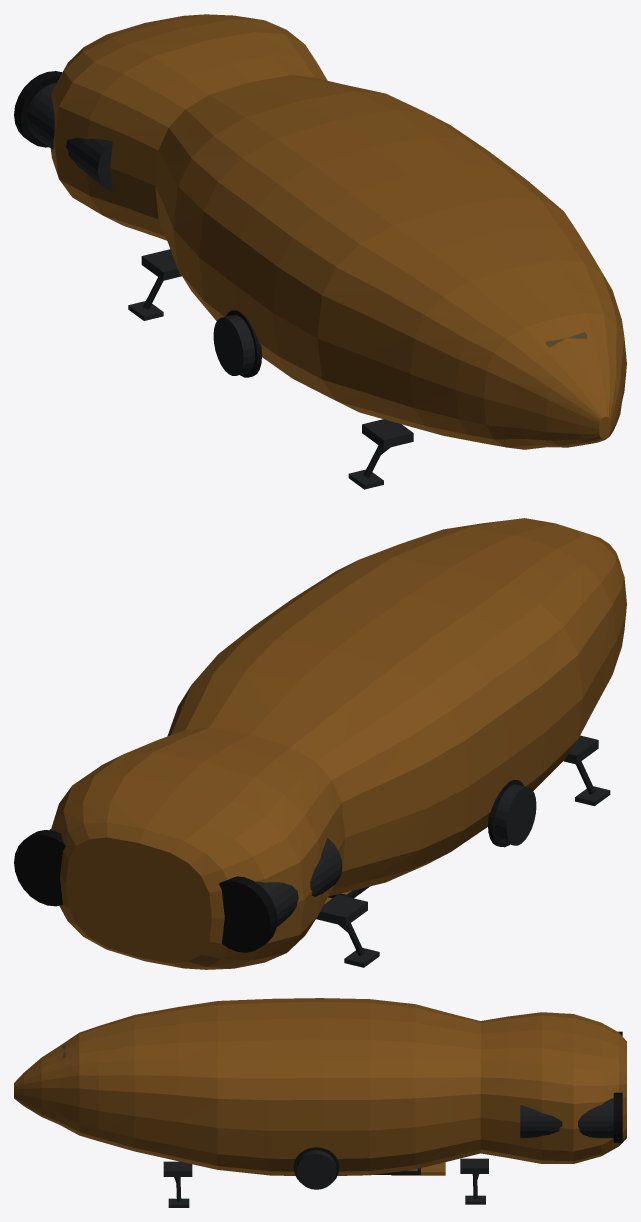
The model's file is STW-T01_StingWasp.obj.
3 views of the same model, one above another, from view 1: azimuth 30°, elevation 25°; view 2: azimuth 150°, elevation 25°; view 3: azimuth 270°, elevation 25° (orthographic). The views are drawn at different scales.
Visible parts, largest first — view 1: STW_T01_Hull, STW_T01_DrivePod_Port, STW_T01_Dock_Port, STW_T01_EngineBell_Port, STW_T01_Gear_FL_Bay, STW_T01_Gear_RL_Bay; view 2: STW_T01_Hull, STW_T01_EngineBell_Port, STW_T01_EngineBell_Starboard, STW_T01_DrivePod_Port, STW_T01_Dock_Port, STW_T01_Gear_RL_Bay; view 3: STW_T01_Hull, STW_T01_DrivePod_Starboard, STW_T01_Dock_Starboard, STW_T01_EngineBell_Starboard, STW_T01_Gear_RR_Bay, STW_T01_Gear_FR_Bay, STW_T01_Dock_Starboard_Interface, STW_T01_CargoRamp.
Boxes of the visible parts, bbox=[...] form: STW_T01_Hull: bbox=[50, 14, 626, 449]; STW_T01_DrivePod_Port: bbox=[26, 83, 112, 191]; STW_T01_Dock_Port: bbox=[213, 315, 254, 375]; STW_T01_EngineBell_Port: bbox=[14, 71, 62, 147]; STW_T01_Gear_FL_Bay: bbox=[362, 419, 413, 448]; STW_T01_Gear_RL_Bay: bbox=[141, 249, 181, 280]; STW_T01_Hull: bbox=[51, 518, 626, 969]; STW_T01_EngineBell_Port: bbox=[219, 876, 277, 952]; STW_T01_EngineBell_Starboard: bbox=[14, 830, 65, 906]; STW_T01_DrivePod_Port: bbox=[255, 838, 342, 926]; STW_T01_Dock_Port: bbox=[495, 784, 536, 845]; STW_T01_Gear_RL_Bay: bbox=[316, 894, 367, 926]; STW_T01_Hull: bbox=[14, 998, 626, 1175]; STW_T01_DrivePod_Starboard: bbox=[520, 1098, 613, 1138]; STW_T01_Dock_Starboard: bbox=[296, 1150, 336, 1189]; STW_T01_EngineBell_Starboard: bbox=[613, 1092, 622, 1142]; STW_T01_Gear_RR_Bay: bbox=[460, 1158, 488, 1173]; STW_T01_Gear_FR_Bay: bbox=[163, 1161, 192, 1176]; STW_T01_Dock_Starboard_Interface: bbox=[293, 1147, 339, 1183]; STW_T01_CargoRamp: bbox=[391, 1162, 445, 1175].
Size of the model in its own units: 11.25 by 8.38 by 31.
